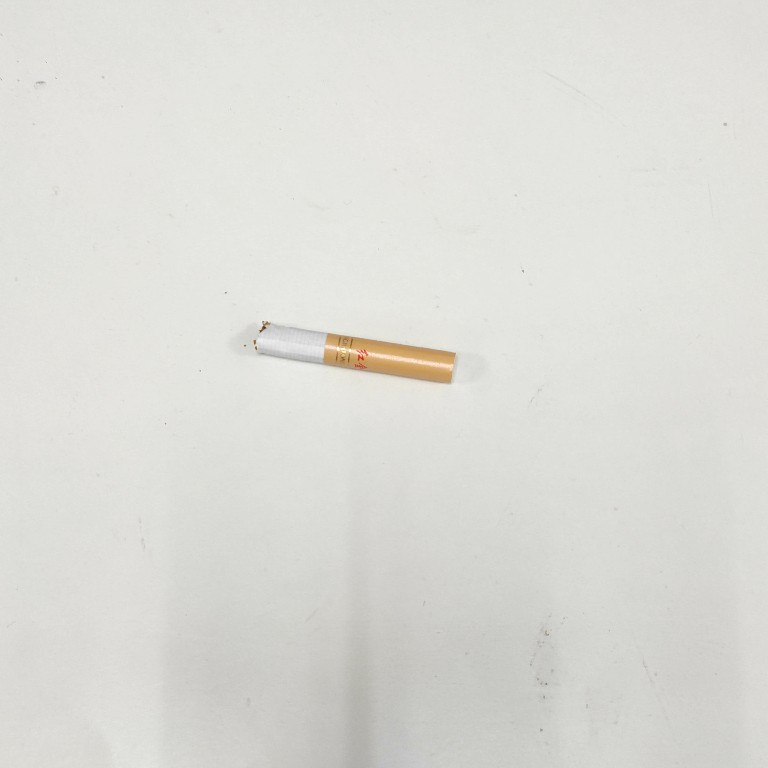cigarette: (247, 314, 463, 387)
